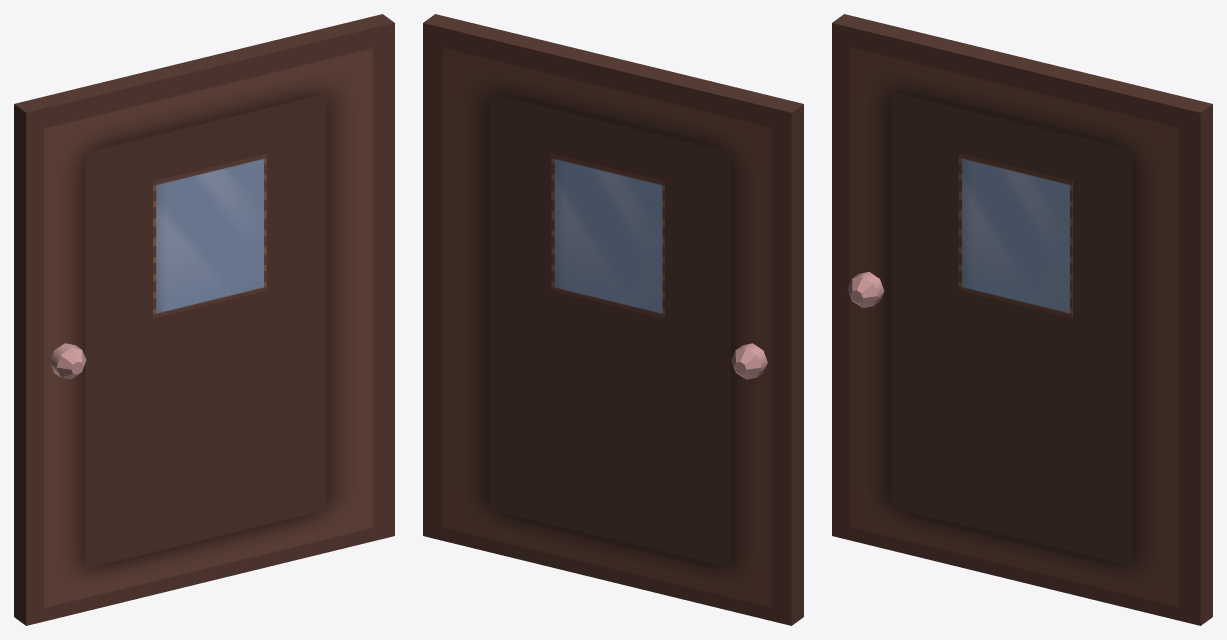
The model's file is Door2.fbx.
3 renders of one model, left to right at view 1: azimuth 30°, elevation 25°; view 2: azimuth 150°, elevation 25°; view 3: azimuth 330°, elevation 25°, orthographic.
Parts seen in each view (by area): view 1: Door2; view 2: Door2; view 3: Door2.
Boxes of the visible parts, <box> form: Door2: <box>14,14,394,625</box>; Door2: <box>423,14,803,625</box>; Door2: <box>832,14,1212,625</box>.
Size of the model in its own units: 151 by 201 by 27.5.
